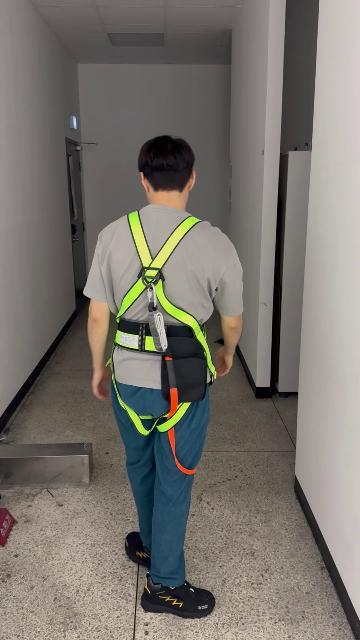helmet_not_worn: (137, 135, 199, 197)
shoe_worn: (141, 574, 215, 619), (125, 532, 152, 569)
vest_worn: (104, 217, 217, 437)
